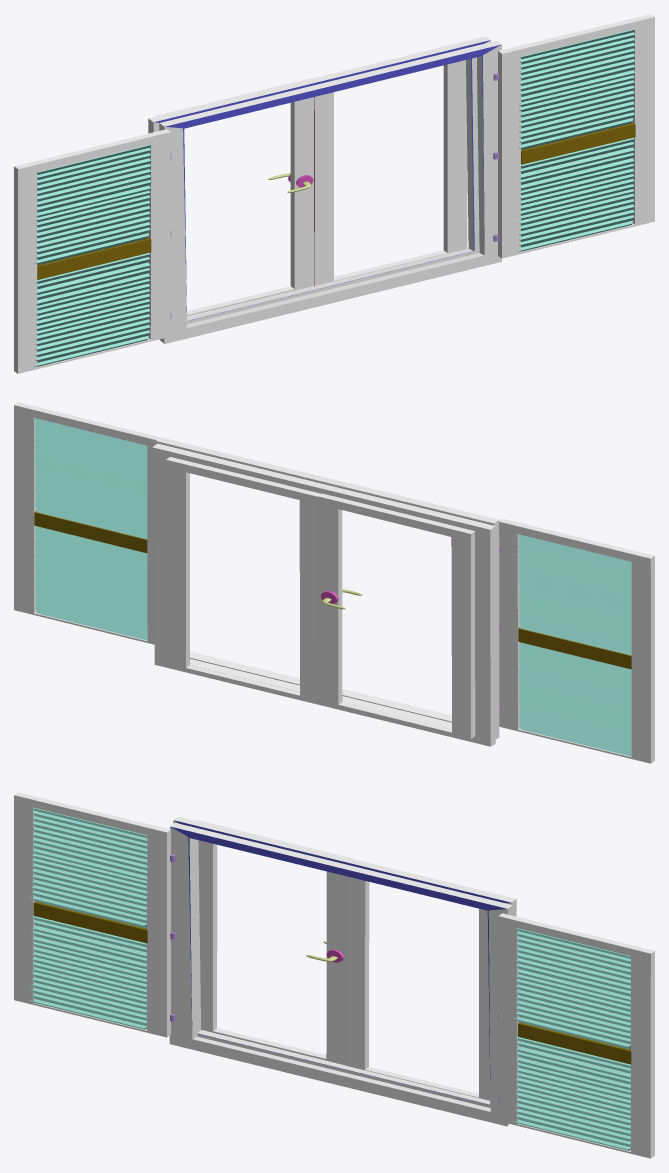
The model's file is ventana2.obj.
3 views of the same model, one above another, from view 1: azimuth 30°, elevation 25°; view 2: azimuth 150°, elevation 25°; view 3: azimuth 330°, elevation 25° (orthographic).
Parts seen in each view (by area): view 1: stanghetta96; view 2: stanghetta96; view 3: stanghetta96.
Part boxes in pixels (box(x1,y1,x2,y2)): stanghetta96: box(14, 14, 654, 373); stanghetta96: box(14, 402, 654, 763); stanghetta96: box(14, 792, 654, 1158).
Size of the model in its own units: 387 by 126 by 32.79.
10 materials, 2 textured.
